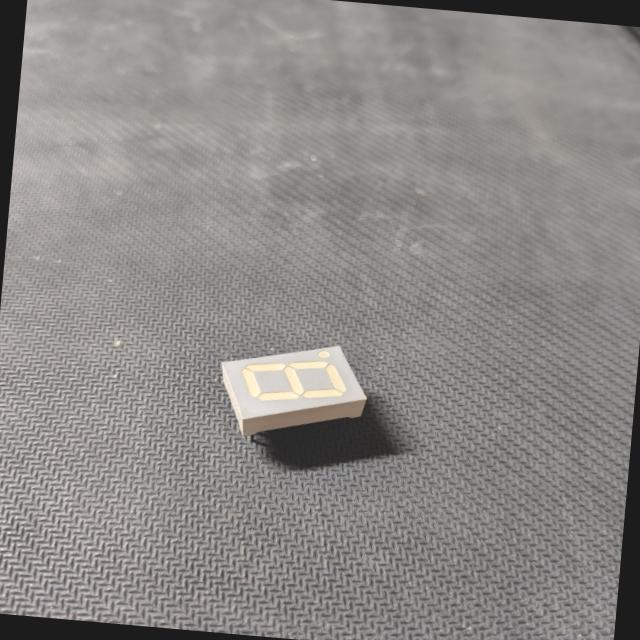sevensegment: (196, 317, 396, 465)
